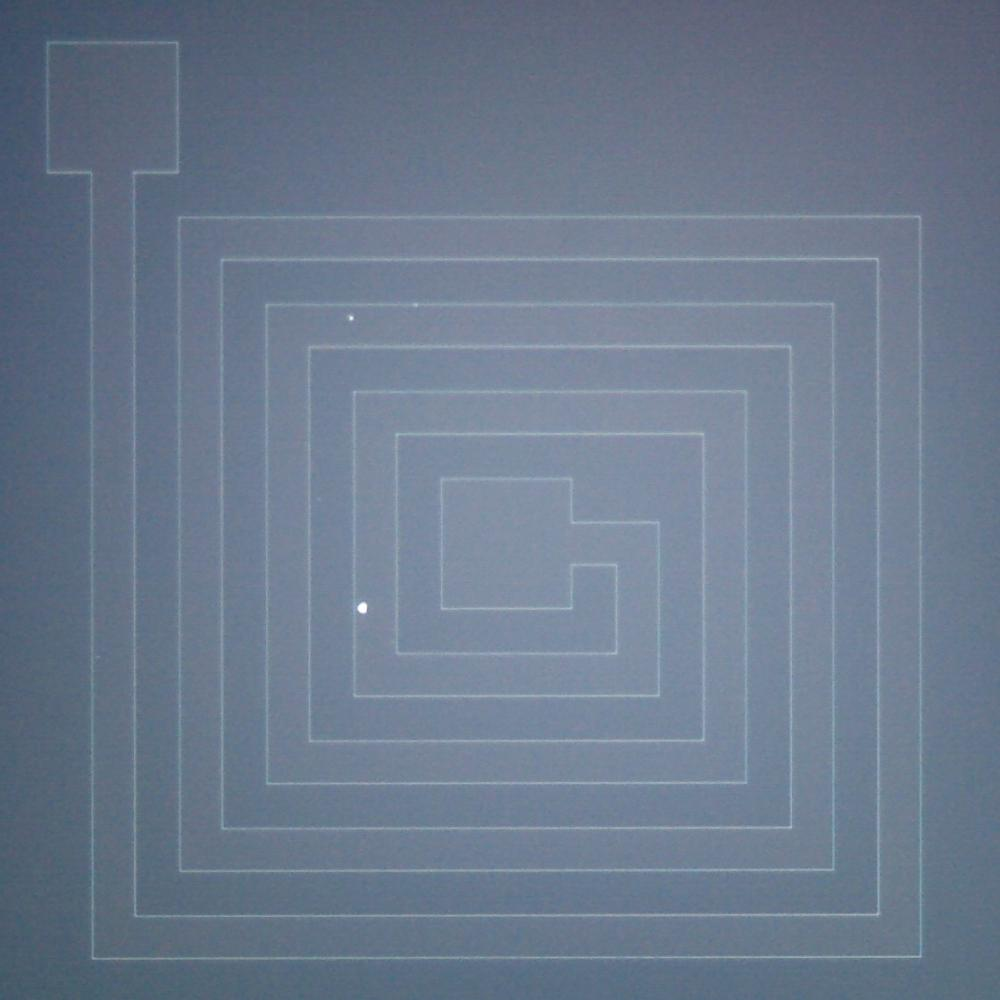dot: (357, 604, 367, 614), (349, 315, 355, 321)
